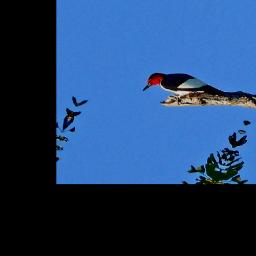Woodpecker: (133, 58, 249, 119)
